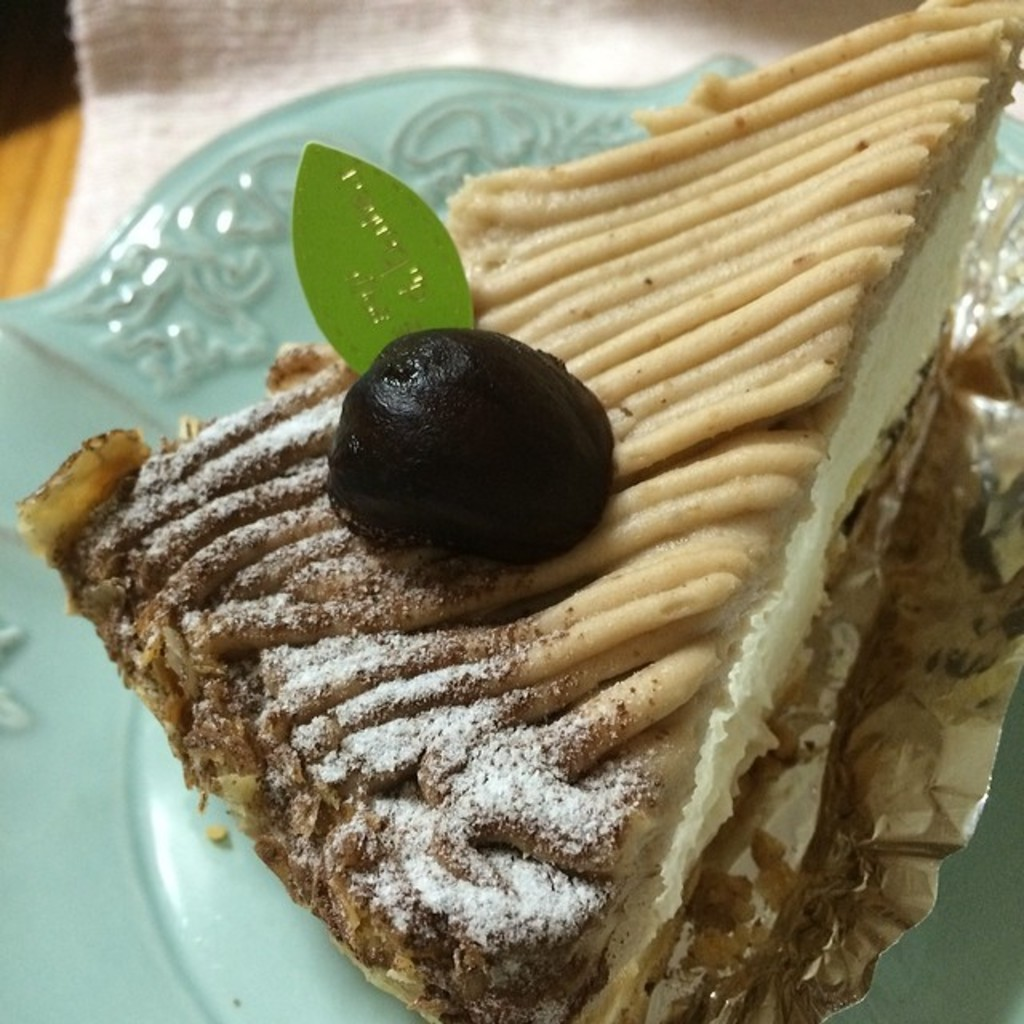cake: (11, 0, 1022, 1022)
